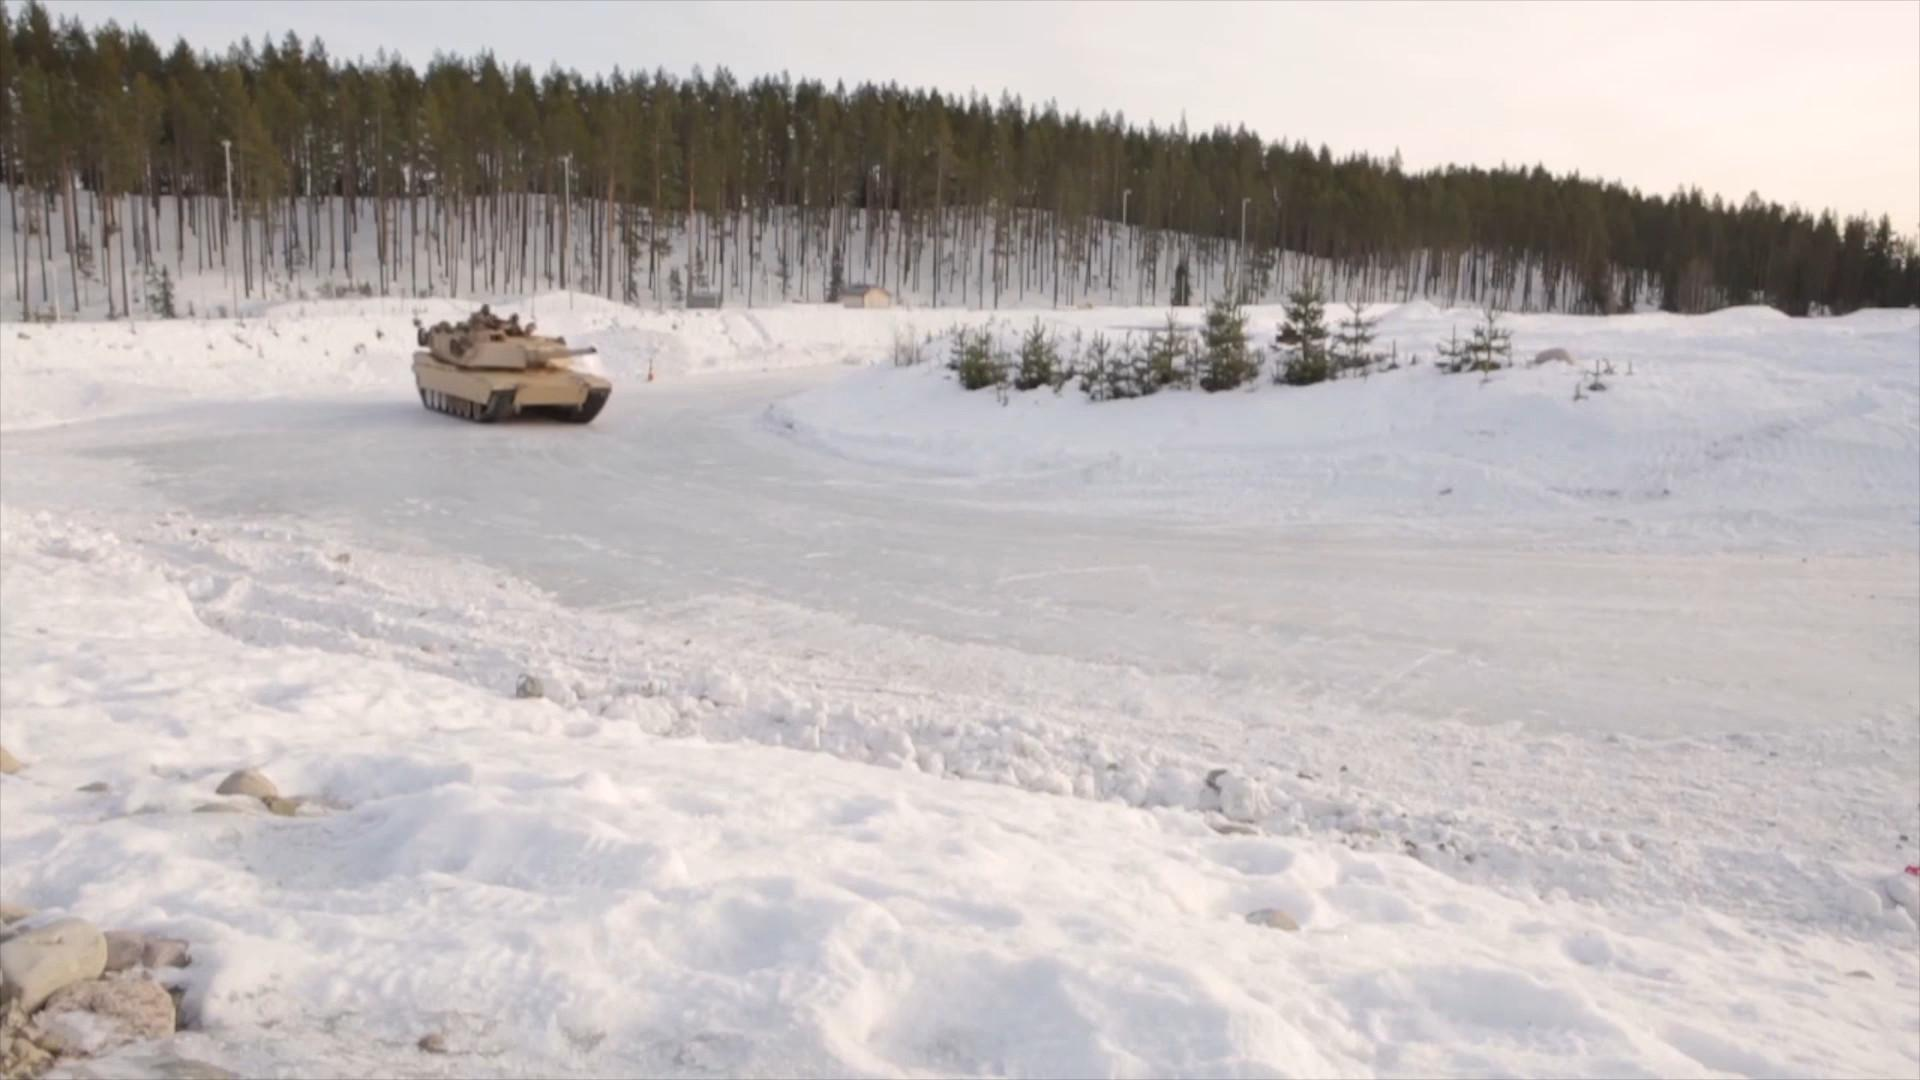tank: (410, 319, 612, 423)
